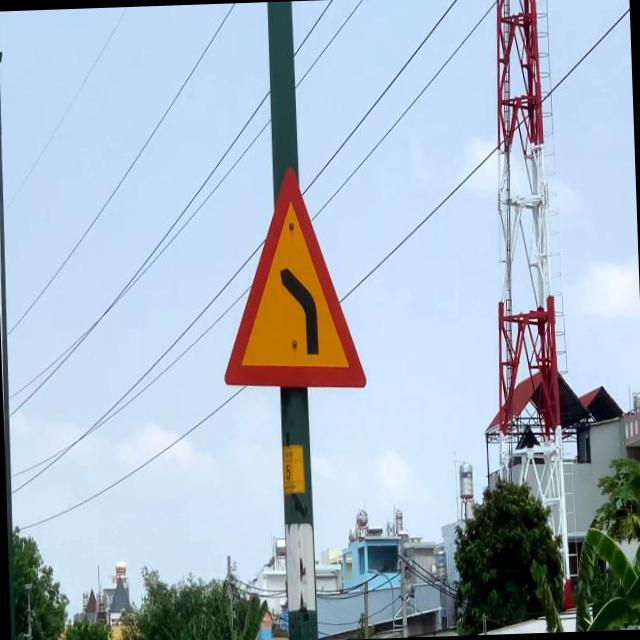W-201a: (217, 157, 367, 394)
